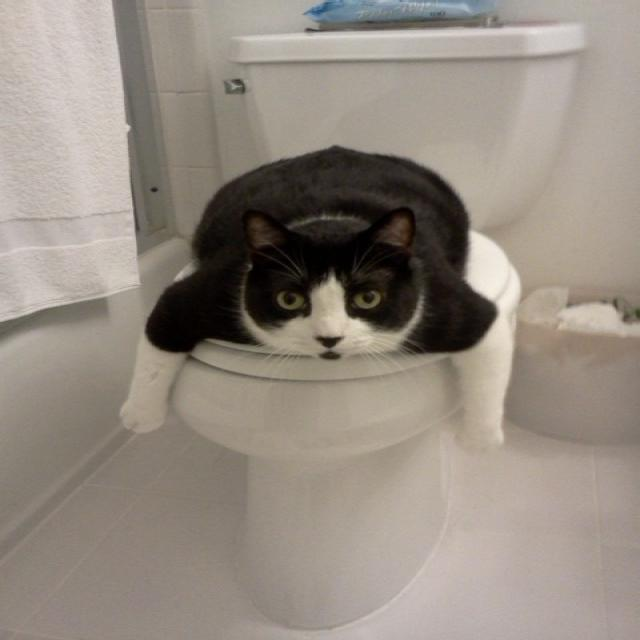cat: (108, 115, 549, 470)
